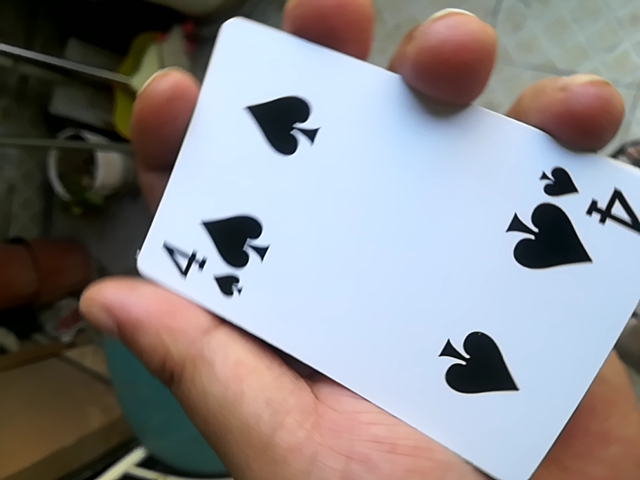ht 4: (131, 15, 636, 478)
